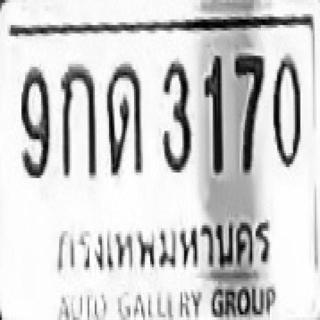A01: (59, 61, 95, 178)
A20: (105, 61, 141, 172)
N00: (272, 53, 300, 167)
N01: (202, 53, 222, 170)
N03: (160, 58, 190, 170)
N07: (232, 53, 263, 173)
N09: (20, 63, 48, 177)
P04: (52, 211, 273, 279)
